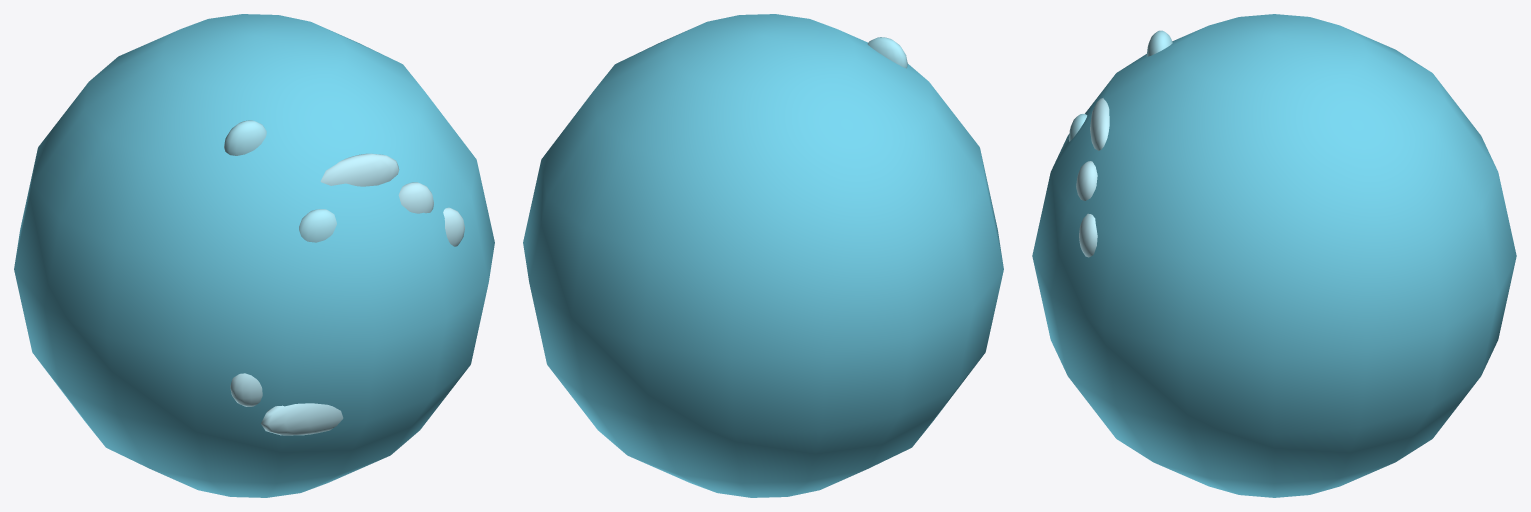
File: CMU3DMaterialLeisureOrbCloud.glb
3 views of the same model, side by side, from view 1: azimuth 30°, elevation 25°; view 2: azimuth 150°, elevation 25°; view 3: azimuth 270°, elevation 25° (orthographic).
Parts seen in each view (by area): view 1: cyan orb volume, source bright pixel run 18 13, source bright pixel run 12 15, source bright pixel run 11 13, source bright pixel run 13 14, source bright pixel run 13 17, source bright pixel run 17 12, source bright pixel run 14 18; view 2: cyan orb volume, source bright pixel run 11 13; view 3: cyan orb volume, source bright pixel run 12 15, source bright pixel run 13 17, source bright pixel run 14 18.
Boxes of the visible parts, <box> form: cyan orb volume: <box>14,14,494,497</box>; source bright pixel run 18 13: <box>261,403,343,435</box>; source bright pixel run 12 15: <box>320,153,399,186</box>; source bright pixel run 11 13: <box>224,120,266,155</box>; source bright pixel run 13 14: <box>299,209,336,242</box>; source bright pixel run 13 17: <box>398,182,433,213</box>; source bright pixel run 17 12: <box>230,373,262,406</box>; source bright pixel run 14 18: <box>443,207,464,246</box>; cyan orb volume: <box>523,14,1003,497</box>; source bright pixel run 11 13: <box>867,37,907,68</box>; cyan orb volume: <box>1032,14,1516,497</box>; source bright pixel run 12 15: <box>1090,98,1109,150</box>; source bright pixel run 13 17: <box>1076,161,1097,200</box>; source bright pixel run 14 18: <box>1079,213,1097,257</box>.
Bounding box in the file's own units: 0.34 × 0.34 × 0.34.
